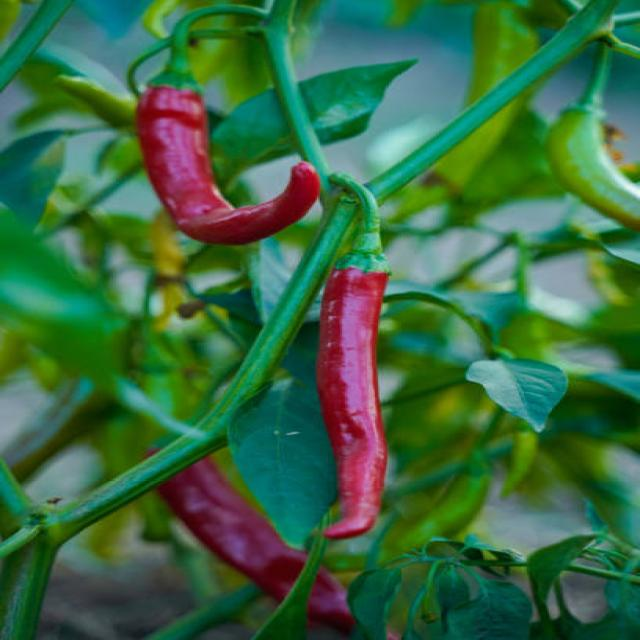Ripe: (136, 87, 318, 244), (317, 267, 387, 539)
